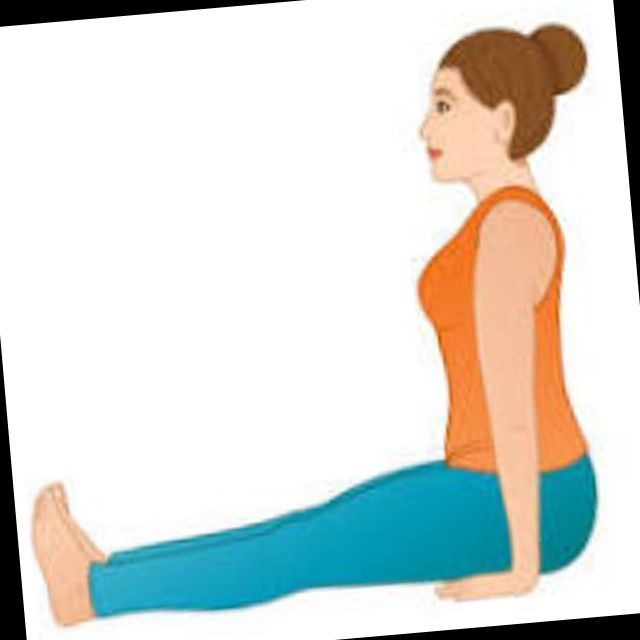Staff_Pose: (33, 29, 598, 627)
